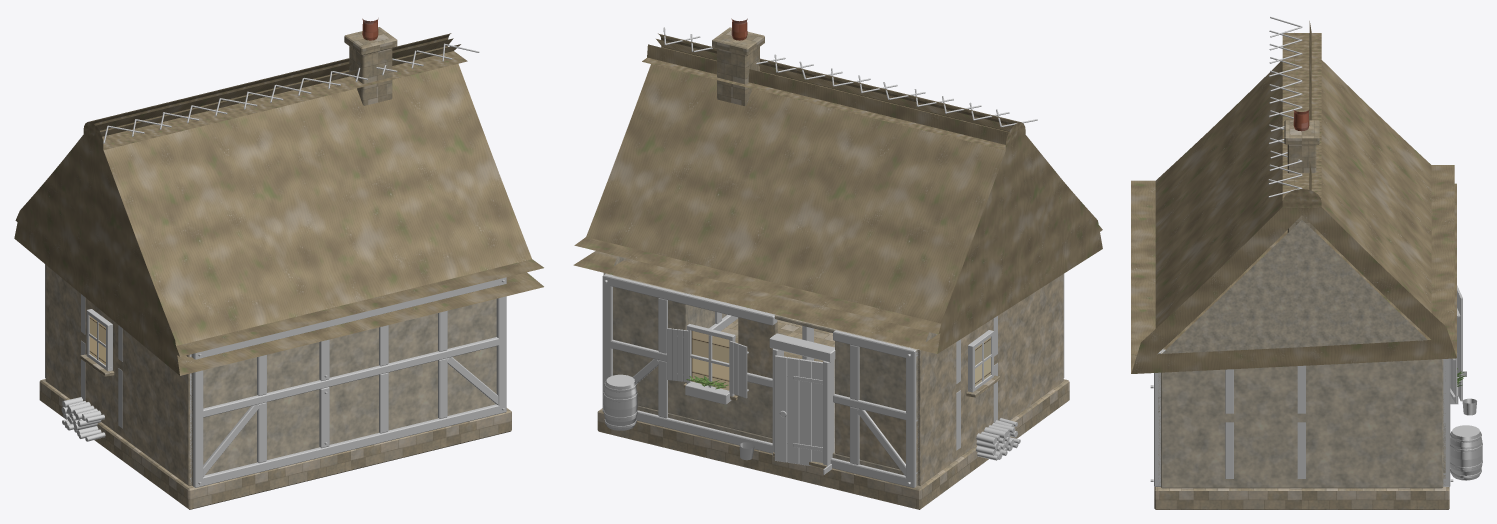
Rendered from cottage.gltf.
3 views of the same model, side by side, from view 1: azimuth 30°, elevation 25°; view 2: azimuth 150°, elevation 25°; view 3: azimuth 270°, elevation 25° (orthographic).
Visible parts, largest first — view 1: cottage#n1_0, cottage#0_0, cottage#n1_n1; view 2: cottage#n1_0, cottage#0_n1, cottage#0_0, cottage#n1_n1; view 3: cottage#n1_0, cottage#0_0, cottage#0_n1, cottage#n1_n1.
Part boxes in pixels (x1,y1,x2,y2): cottage#n1_0: (14,33,543,485); cottage#0_0: (39,18,511,509); cottage#n1_n1: (61,309,114,441); cottage#n1_0: (573,27,1102,485); cottage#0_n1: (602,273,917,487); cottage#0_0: (597,18,1069,509); cottage#n1_n1: (769,330,1020,474); cottage#n1_0: (1131,16,1456,373); cottage#0_0: (1150,109,1449,509); cottage#0_n1: (1443,353,1482,486); cottage#n1_n1: (1457,285,1466,401).
Bounding box in the file's own units: 7.9 × 7.52 × 6.49.
